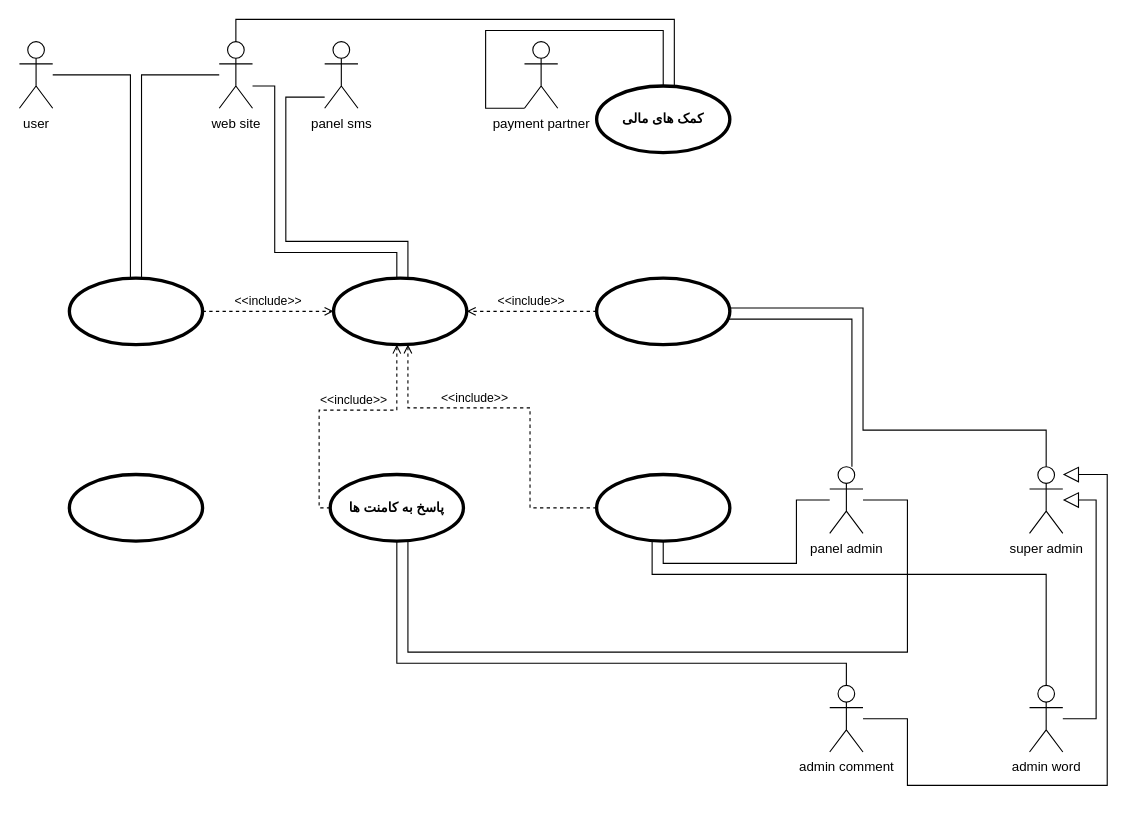
Image size: 1142x820. Some labels were removed from this diagram. The box of each missing label's shape, as (x1, y1, x2, y2) in pixels:
UseCaseName: (67, 472, 204, 542)
افزودن ، ویرایش ، حذف کاربران: (594, 276, 731, 346)
انجام افزودن ، ویرایش ، حذف بر روی کلمه: (594, 472, 731, 542)
ورود و احراز هویت: (331, 276, 468, 346)
گذاشتن کامنت: (67, 276, 204, 346)
